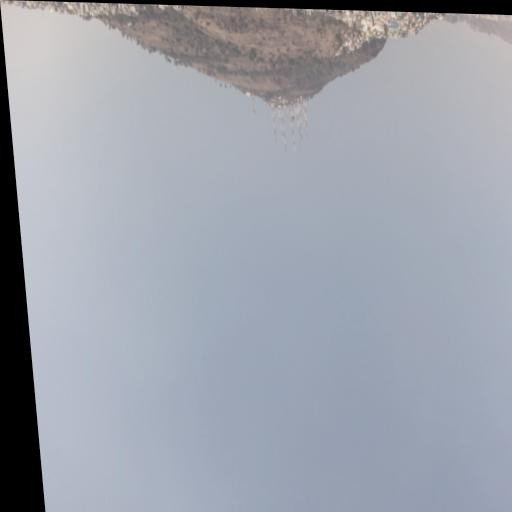drones: (291, 116, 295, 120)
